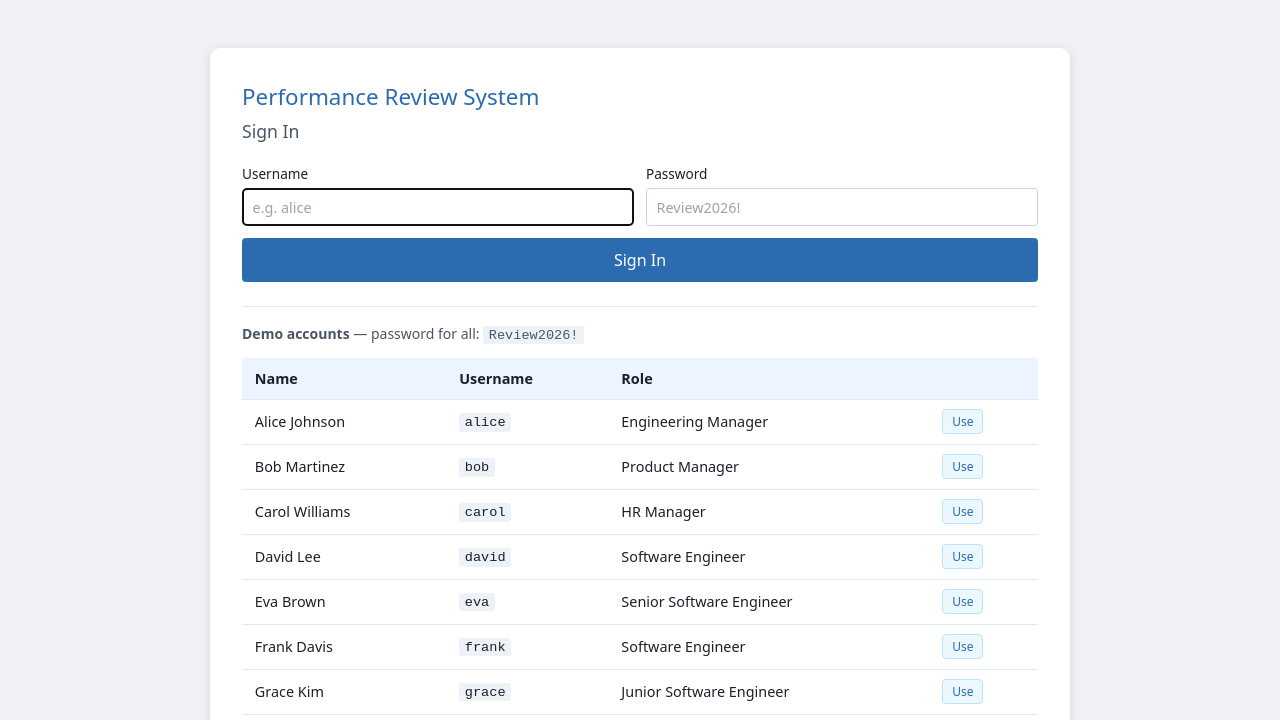
Scenario: App › clicking Sign Out returns to the Login page
The width and height of the screenshot is (1280, 720).
Type "alice" into the field with placeholder "e.g. alice" at (438, 207), box [242, 188, 634, 226]
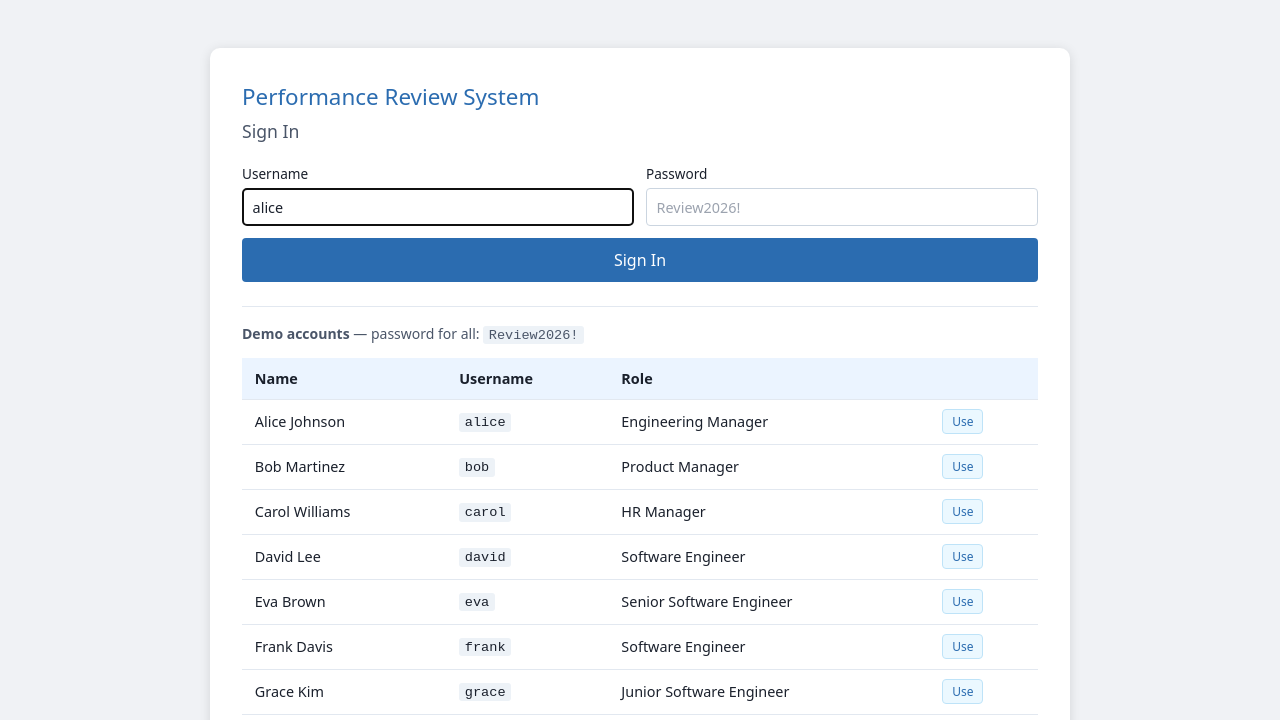
Type "Review2026!" into the password field with placeholder "Review2026!" at (842, 207), box [646, 188, 1038, 226]
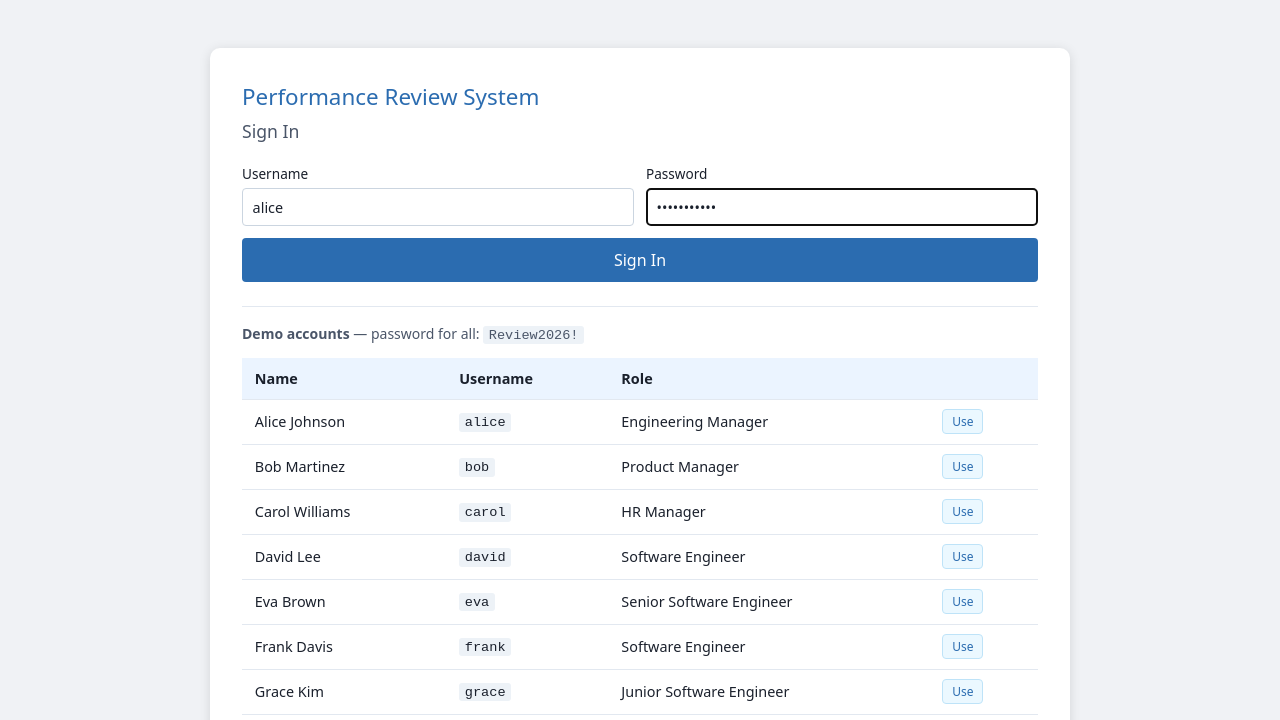
Click the button "Sign In" at (640, 260), box [242, 238, 1038, 282]
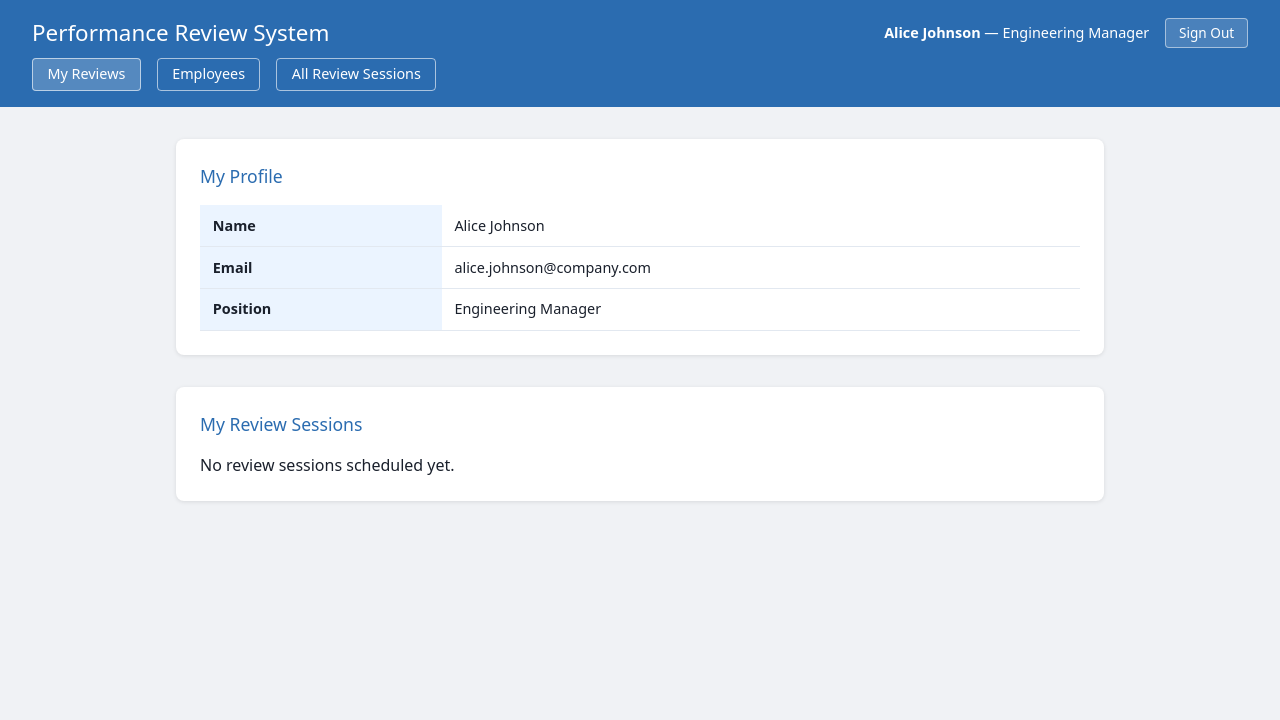
Expected: the button "Sign Out" is shown
Click the button "Sign Out" at (1207, 33), box [1165, 18, 1248, 48]
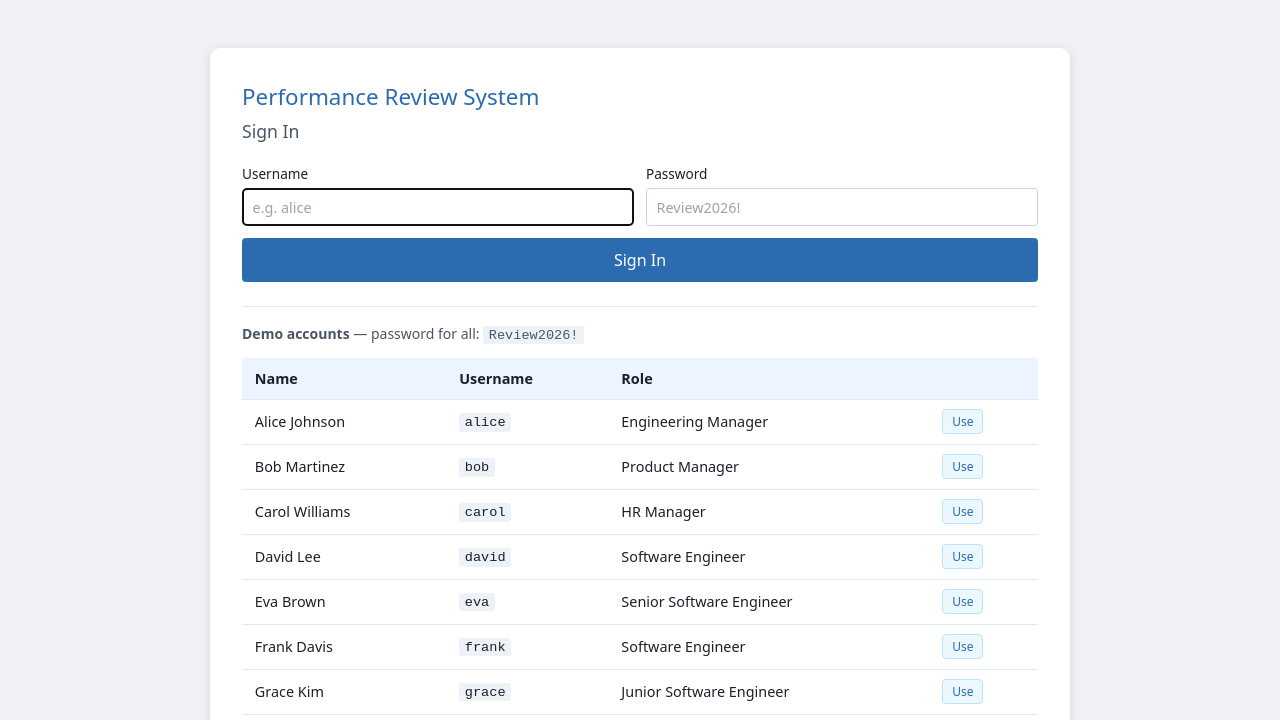
Expected: the heading "Sign In" is shown, [242, 119, 299, 143]
